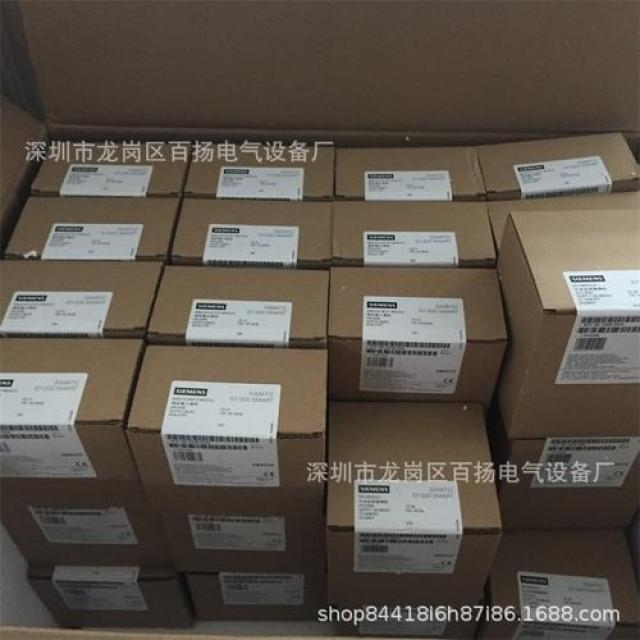Carton: (120, 265, 504, 609), (330, 198, 637, 436), (0, 137, 328, 339), (0, 420, 321, 577), (337, 129, 637, 193), (495, 530, 637, 626), (0, 337, 137, 421), (26, 572, 187, 630)
